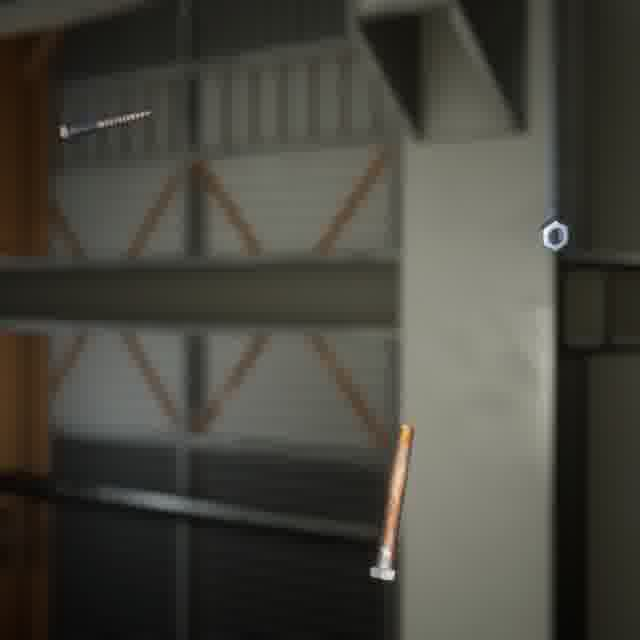bolt: (365, 419, 418, 584), (55, 105, 158, 149)
nut: (533, 214, 573, 256)
